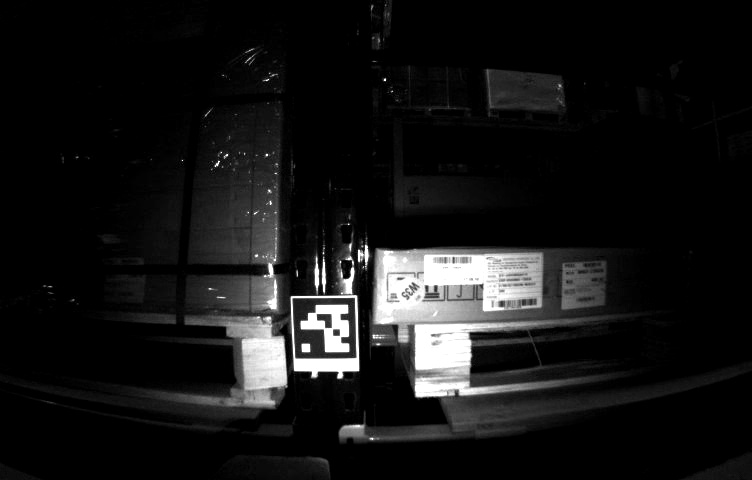True Barcode: (560, 263, 607, 305), (104, 259, 144, 302)
